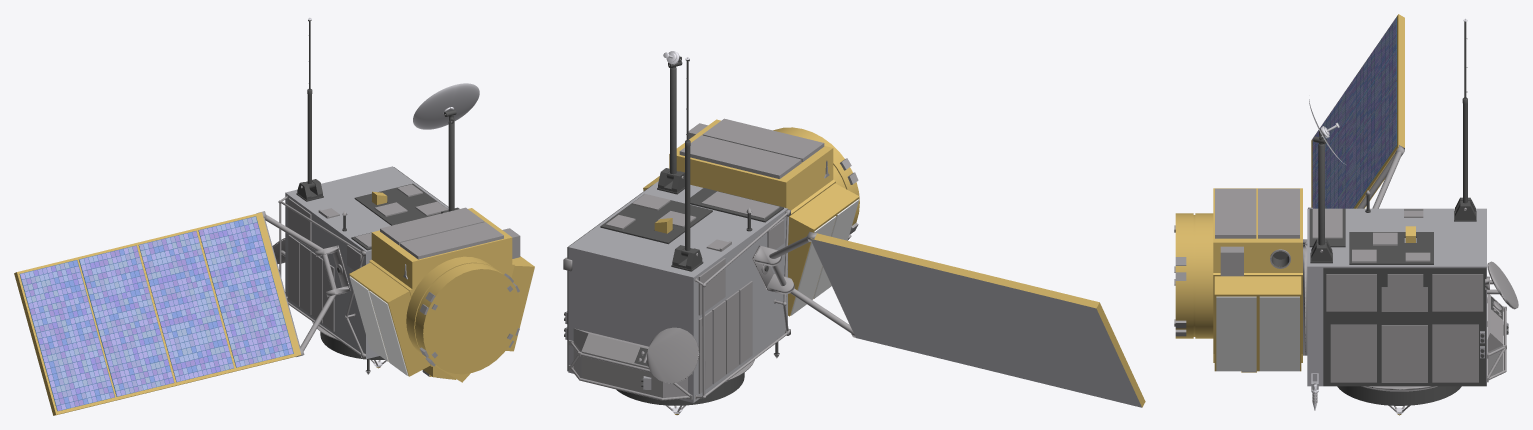
Rendered from Topex-Posidon-composite.glb.
3 views of the same model, side by side, from view 1: azimuth 30°, elevation 25°; view 2: azimuth 150°, elevation 25°; view 3: azimuth 270°, elevation 25° (orthographic). The views are drawn at different scales.
Parts seen in each view (by area): view 1: Layer_0_19, Layer_0_12, Layer_0_17, Layer_0_14, Layer_0_2, Layer_0_3, Layer_0_5, Layer_0_13, Layer_0_1, Layer_0_6, Layer_0_4, Layer_0_7 (+8 smaller); view 2: Layer_0_14, Layer_0_17, Layer_0_18, Layer_0_15, Layer_0_8, Layer_0_11, Layer_0_9, Layer_0_13, Layer_0_16, Layer_0_12; view 3: Layer_0_17, Layer_0_8, Layer_0_14, Layer_0_16, Layer_0_12, Layer_0_9, Layer_0_15, Layer_0_18, Layer_0_19, Layer_0_11, Layer_0_2, Layer_0_3 (+8 smaller).
Part boxes in pixels (x1,y1,x2,y2): Layer_0_19: [19, 216, 293, 411]; Layer_0_12: [376, 256, 521, 374]; Layer_0_17: [288, 184, 520, 379]; Layer_0_14: [285, 166, 448, 359]; Layer_0_2: [25, 223, 293, 407]; Layer_0_3: [24, 222, 284, 403]; Layer_0_5: [26, 222, 286, 406]; Layer_0_13: [14, 212, 301, 415]; Layer_0_1: [20, 228, 291, 409]; Layer_0_6: [22, 218, 288, 405]; Layer_0_4: [39, 220, 288, 408]; Layer_0_7: [28, 216, 284, 394]; Layer_0_14: [565, 181, 1141, 407]; Layer_0_17: [568, 118, 858, 400]; Layer_0_18: [563, 59, 855, 411]; Layer_0_15: [669, 119, 835, 216]; Layer_0_8: [567, 168, 783, 371]; Layer_0_11: [643, 176, 859, 316]; Layer_0_9: [564, 56, 778, 405]; Layer_0_13: [811, 232, 1145, 407]; Layer_0_16: [643, 190, 858, 315]; Layer_0_12: [674, 127, 859, 414]; Layer_0_17: [1174, 188, 1506, 382]; Layer_0_8: [1309, 197, 1502, 386]; Layer_0_14: [1307, 208, 1508, 389]; Layer_0_16: [1216, 296, 1299, 371]; Layer_0_12: [1175, 213, 1401, 415]; Layer_0_9: [1271, 21, 1508, 405]; Layer_0_15: [1213, 188, 1302, 372]; Layer_0_18: [1270, 136, 1518, 411]; Layer_0_19: [1312, 17, 1396, 208]; Layer_0_11: [1214, 226, 1415, 371]; Layer_0_2: [1312, 27, 1396, 208]; Layer_0_3: [1312, 20, 1396, 208].
Size of the model in its own units: 373 by 277 by 230.
